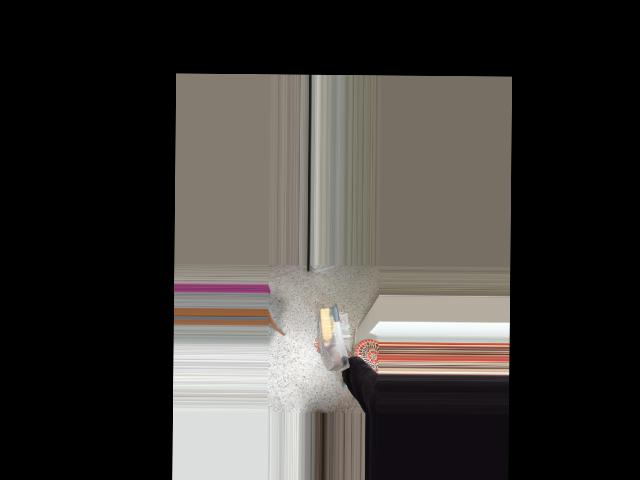cheese: (316, 305, 352, 374)
